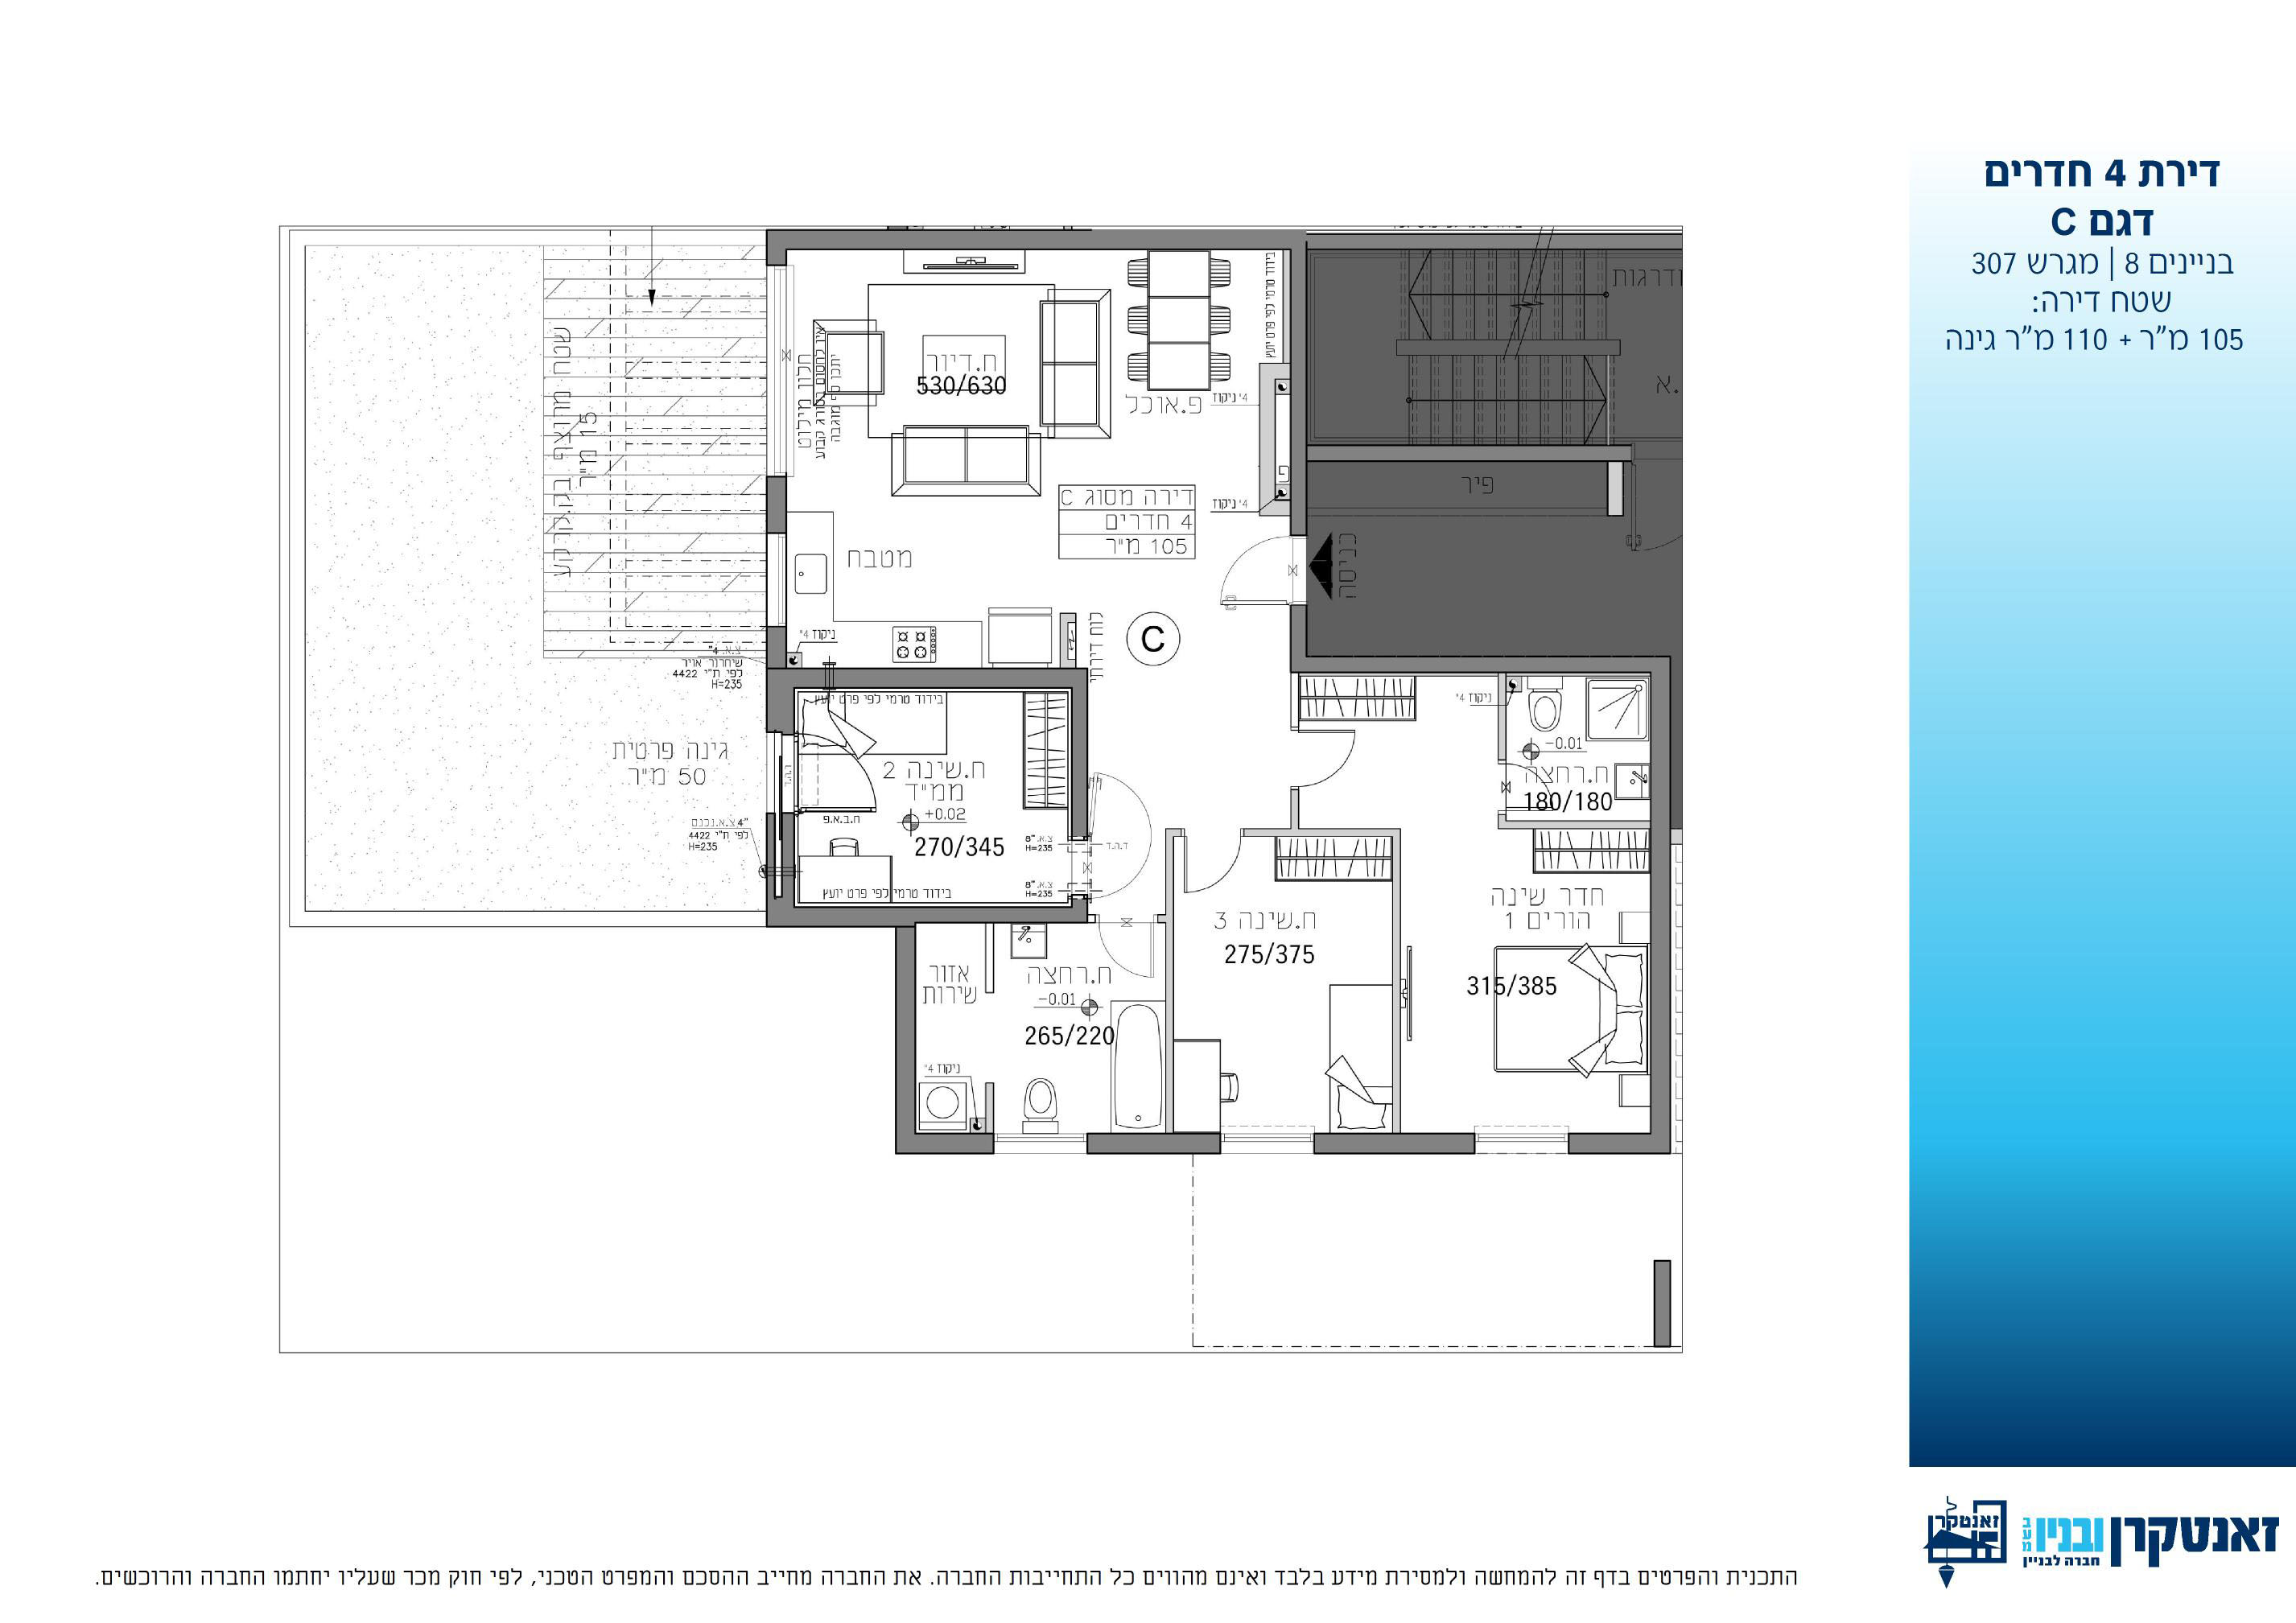door: (803, 739, 878, 826), (1212, 532, 1286, 611), (1298, 724, 1372, 792), (1089, 922, 1163, 991), (1177, 836, 1251, 903)
wall: (766, 230, 1295, 251), (1651, 674, 1672, 1152), (768, 667, 1087, 689), (1289, 659, 1667, 673), (768, 906, 1087, 922)
window: (768, 265, 787, 476), (993, 1133, 1087, 1152), (1221, 1133, 1316, 1152), (1474, 1133, 1569, 1152), (766, 532, 785, 624)
